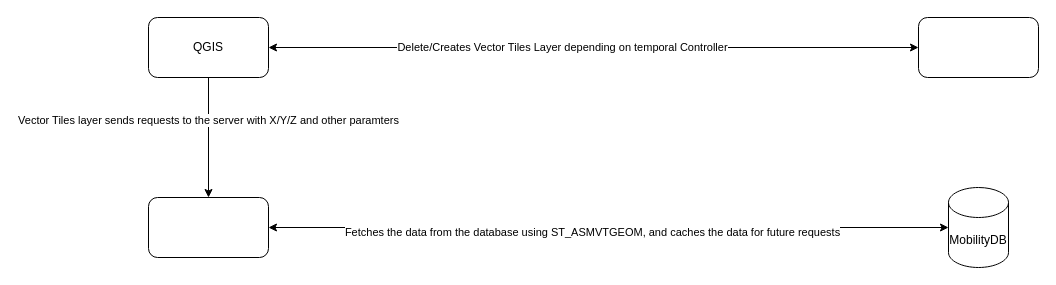
Some shapes in this 1056 by 285 pixel diagram are drawn without their labels. The shapes that lost their labels are listed below. From the top down, each one's box as (x1, y1, x2, y2) in pixels, then its label:
(918, 16, 1038, 78): Python process : qViz
(148, 196, 268, 258): Vector tiles server :PG_tile_serv
